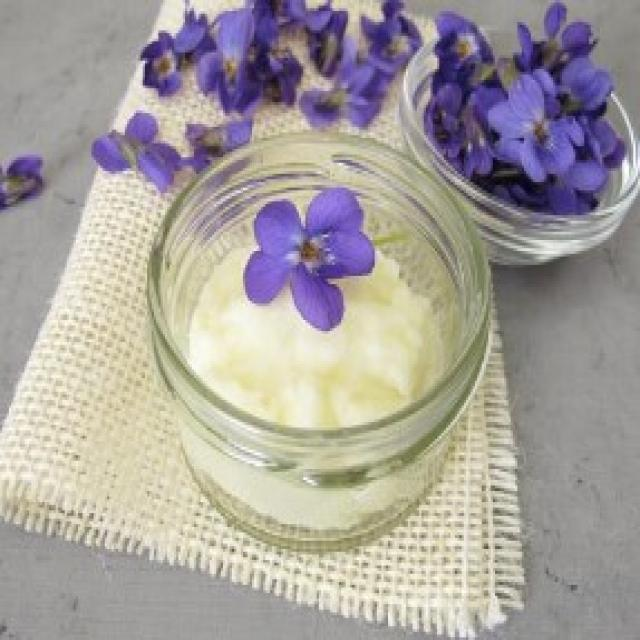electronic: (148, 22, 640, 558)
